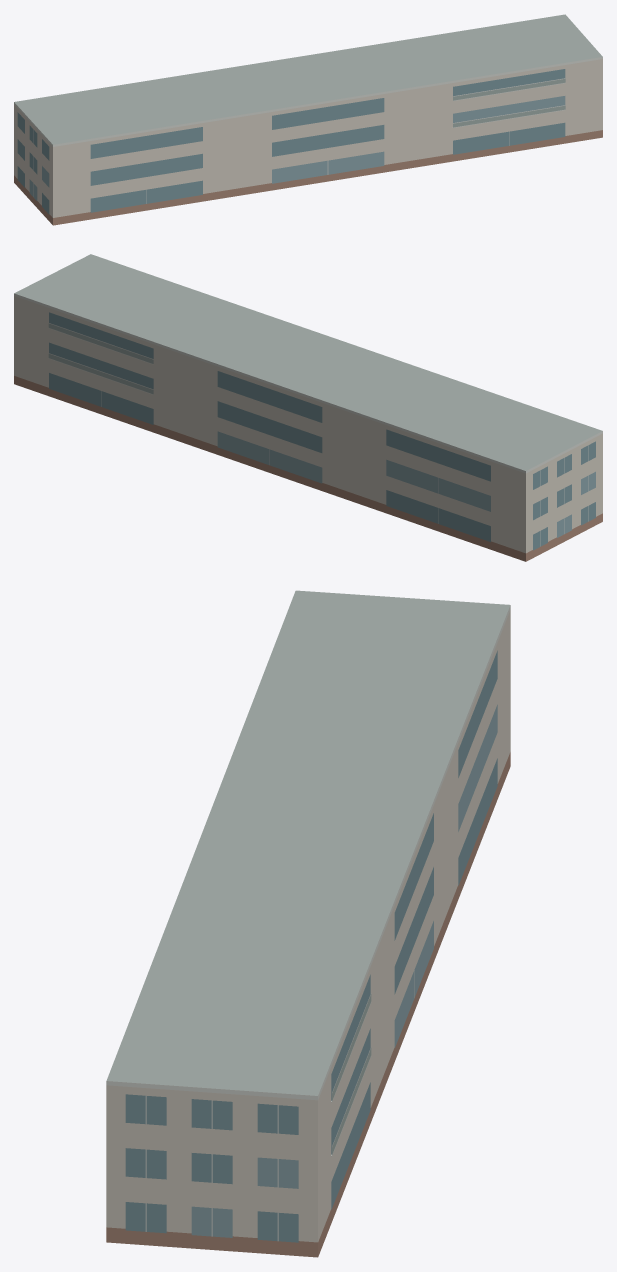
The model's file is survey-upis-32592418.glb.
3 renders of one model, top to bottom at view 1: azimuth 30°, elevation 25°; view 2: azimuth 150°, elevation 25°; view 3: azimuth 270°, elevation 25°, orthographic. The views are drawn at different scales.
Parts seen in each view (by area): view 1: survey-upis-32592418.tmp; view 2: survey-upis-32592418.tmp; view 3: survey-upis-32592418.tmp.
Boxes of the visible parts, bbox=[...] form: survey-upis-32592418.tmp: bbox=[14, 14, 602, 225]; survey-upis-32592418.tmp: bbox=[14, 254, 602, 561]; survey-upis-32592418.tmp: bbox=[106, 590, 510, 1257].
Bounding box in the file's own units: 61.47 × 9.15 × 20.78.
